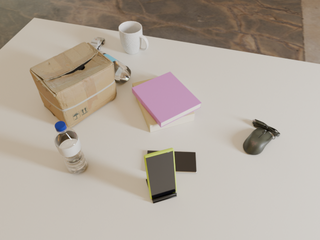book: (132, 72, 201, 127), (132, 78, 195, 132)
bottle: (54, 121, 88, 174), (100, 51, 131, 83)
box: (30, 42, 117, 128)
cup: (119, 21, 148, 54)
mouse: (243, 119, 280, 155)
phone: (144, 148, 177, 199), (147, 151, 197, 173)
toy_car: (90, 37, 105, 50)
